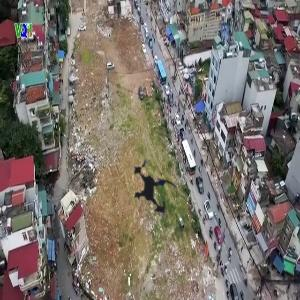drone: (98, 136, 205, 243)
